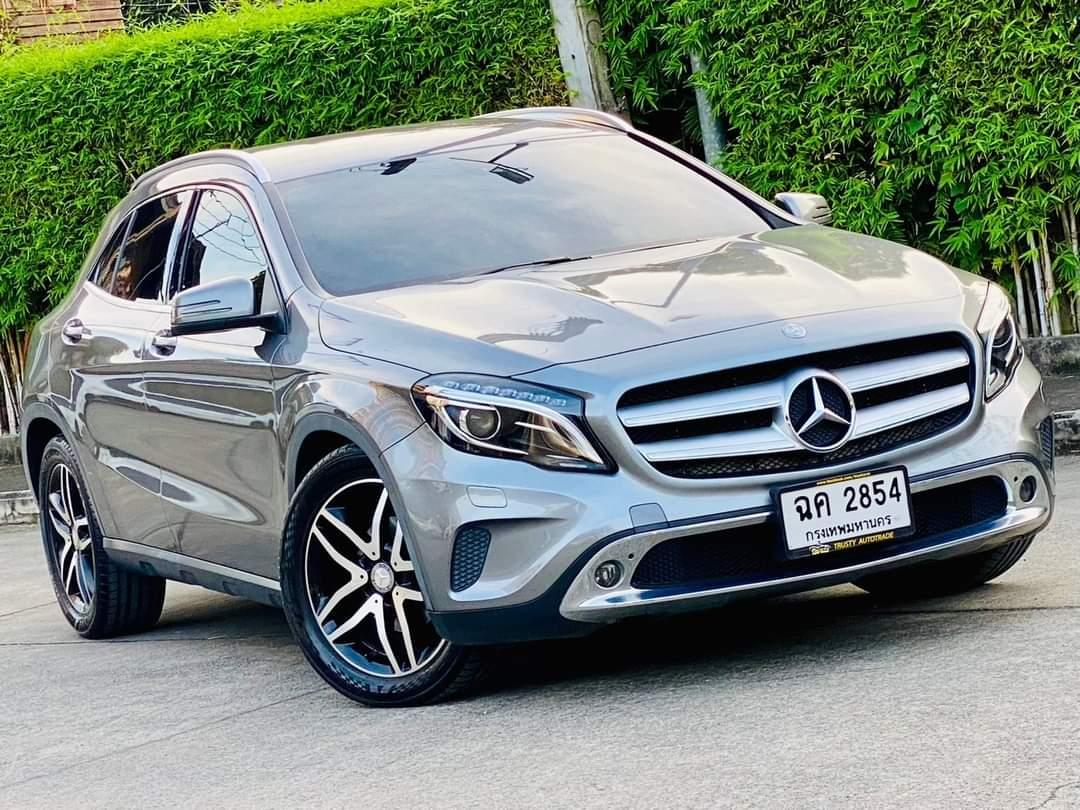license-plate: (767, 461, 927, 565)
